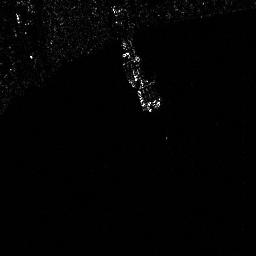ship: (120, 49, 137, 88), (136, 86, 152, 114)
